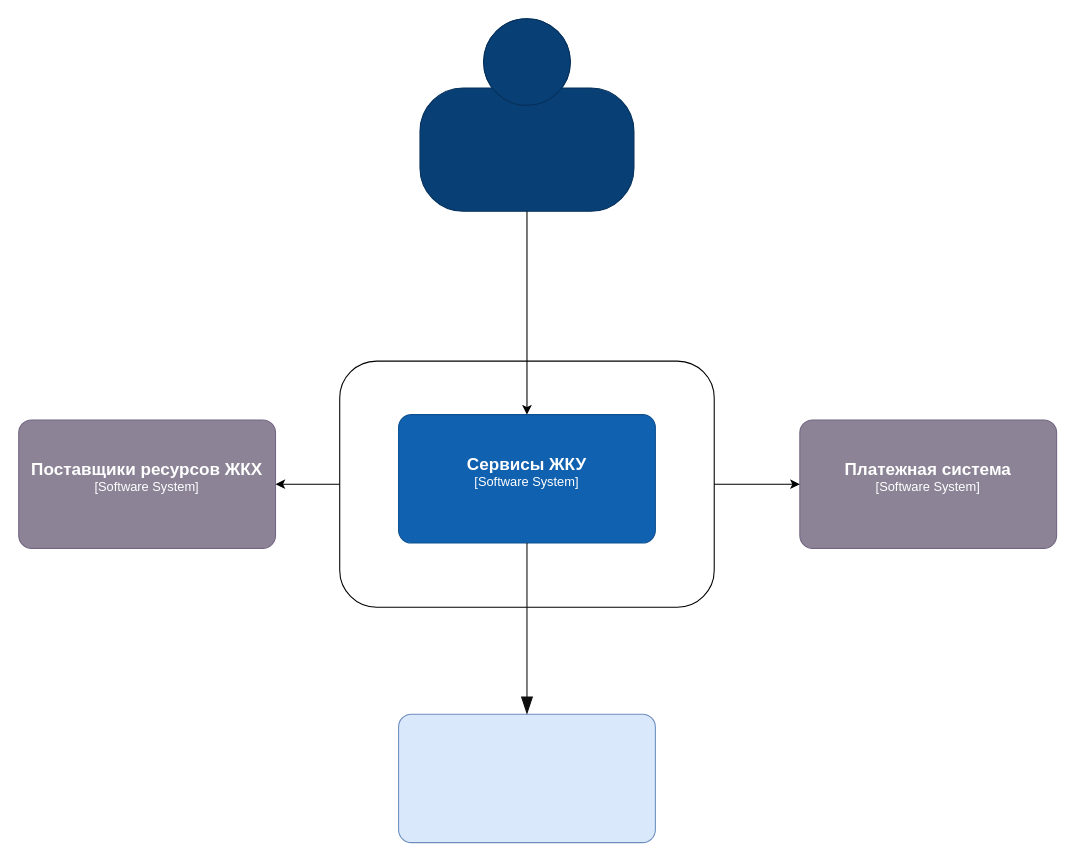
Image size: 1075x861. Some labels were removed from this diagram. Each missing label, with the centre of its shape:
Партнёр-поставщик сервисов "Умный дом" [Software System]: point (526, 778)
Собственник [Person] Жилец: point (526, 114)
